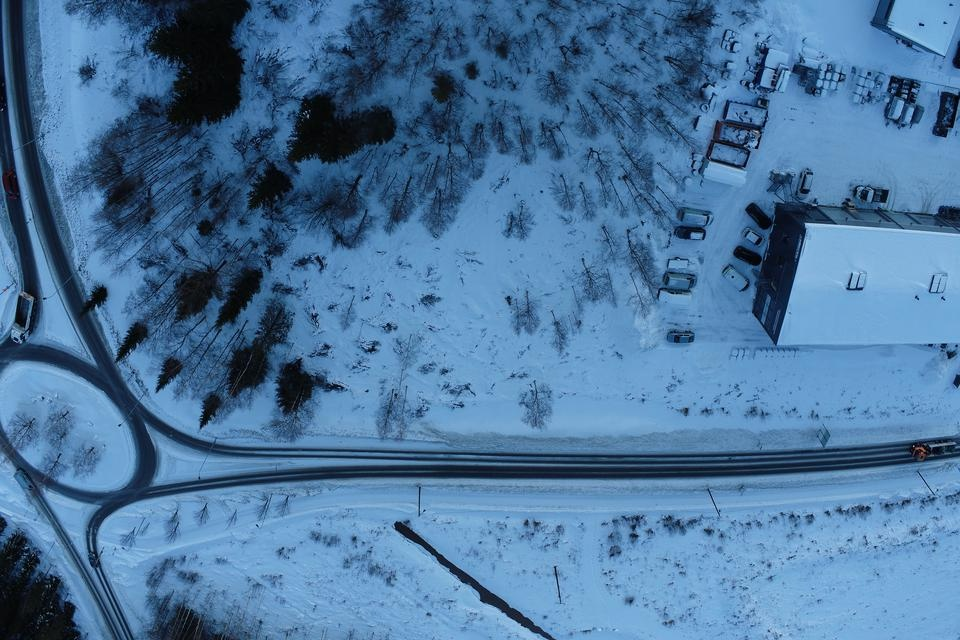roundabout: (0, 314, 173, 553)
